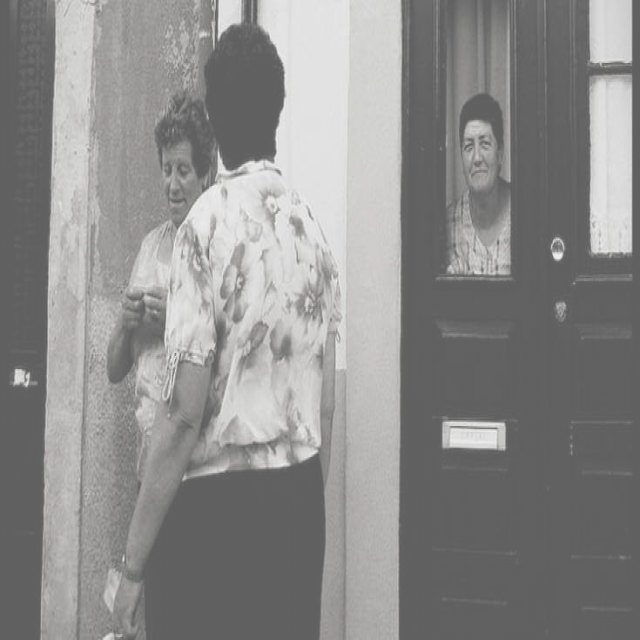pessoa: (106, 16, 342, 639), (109, 89, 218, 491), (435, 82, 512, 276)
